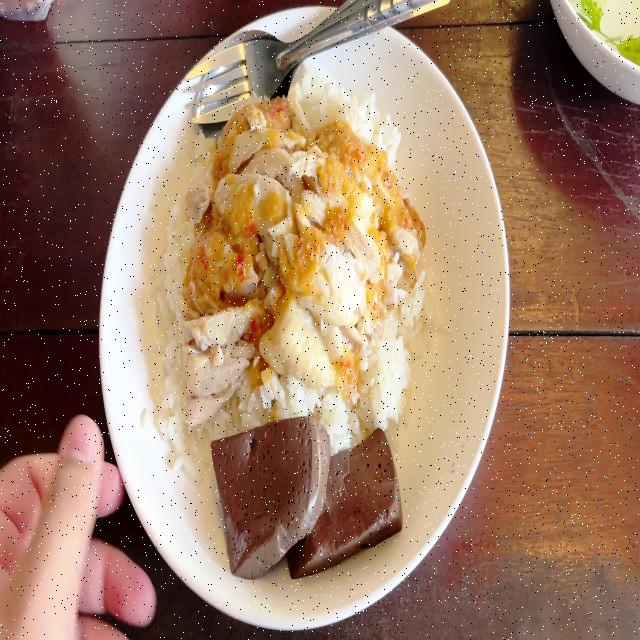boiled_chicken: (210, 108, 372, 386)
boiled_chicken_blood_jelly: (210, 416, 324, 568), (290, 430, 402, 555)
chicken_rice: (146, 59, 434, 568)
